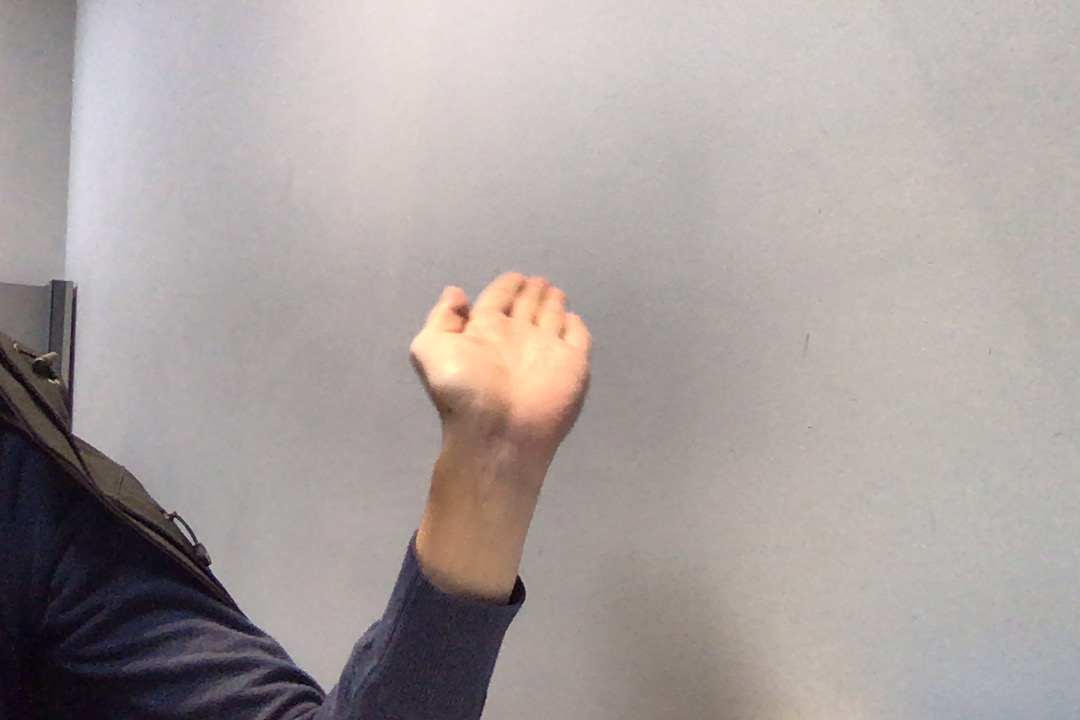palmhand: (394, 256, 615, 450)
